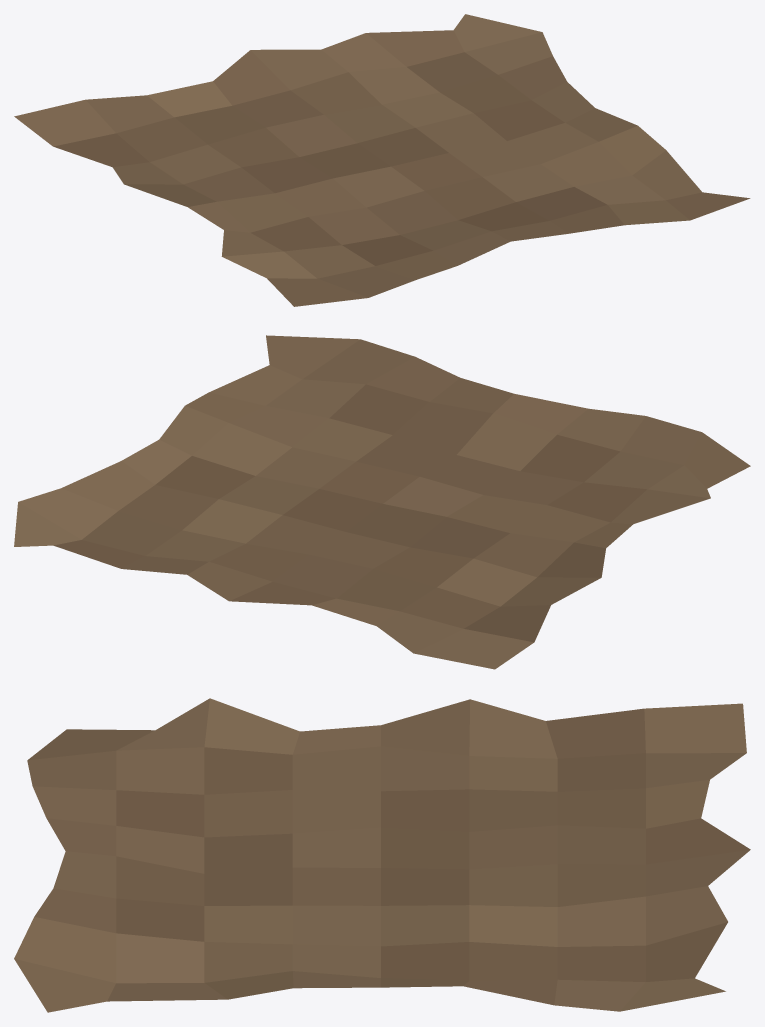
Rendered from Yak_Hide.glb.
3 views of the same model, one above another, from view 1: azimuth 30°, elevation 25°; view 2: azimuth 150°, elevation 25°; view 3: azimuth 270°, elevation 25° (orthographic). The views are drawn at different scales.
Visible parts, largest first — view 1: YakHide; view 2: YakHide; view 3: YakHide.
Boxes of the visible parts, x1,y1,x2,y2 form: YakHide: [14, 14, 750, 306]; YakHide: [14, 335, 750, 669]; YakHide: [14, 698, 750, 1012].
Size of the model in its own units: 1.45 by 0.0569 by 1.46.
